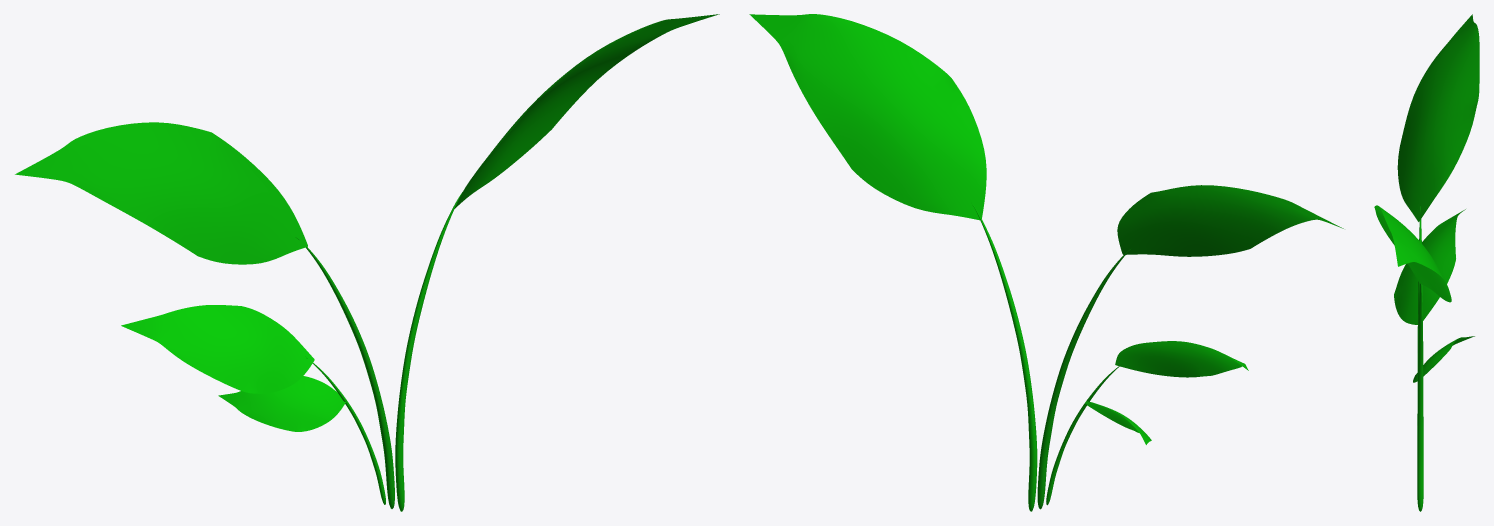
Rendered from little plant.fbx.
3 views of the same model, side by side, from view 1: azimuth 30°, elevation 25°; view 2: azimuth 150°, elevation 25°; view 3: azimuth 270°, elevation 25° (orthographic). The views are drawn at different scales.
Visible parts, largest first — view 1: leaf6, leaf2, new_plant_3:planarTrimmedSurface3, leaf1, leaf5, leaf7; view 2: new_plant_3:planarTrimmedSurface3, leaf6, leaf2, leaf5, leaf7; view 3: leaf6, leaf2, new_plant_3:planarTrimmedSurface3, leaf5, leaf1, leaf7.
Part boxes in pixels (x1=…): leaf6: x1=15, y1=122, x2=307, y2=264; leaf2: x1=121, y1=305, x2=314, y2=393; new_plant_3:planarTrimmedSurface3: x1=454, y1=14, x2=719, y2=208; leaf1: x1=218, y1=376, x2=345, y2=431; leaf5: x1=395, y1=192, x2=462, y2=511; leaf7: x1=295, y1=237, x2=394, y2=508; new_plant_3:planarTrimmedSurface3: x1=749, y1=14, x2=986, y2=220; leaf6: x1=1117, y1=185, x2=1343, y2=256; leaf2: x1=1115, y1=341, x2=1248, y2=377; leaf5: x1=971, y1=202, x2=1037, y2=511; leaf7: x1=1037, y1=248, x2=1131, y2=509; leaf6: x1=1397, y1=14, x2=1479, y2=221; leaf2: x1=1394, y1=209, x2=1465, y2=324; new_plant_3:planarTrimmedSurface3: x1=1374, y1=205, x2=1451, y2=302; leaf5: x1=1417, y1=283, x2=1423, y2=511; leaf1: x1=1413, y1=336, x2=1474, y2=382; leaf7: x1=1417, y1=206, x2=1423, y2=428.
Size of the model in its own units: 26.91 by 17.29 by 4.29.
